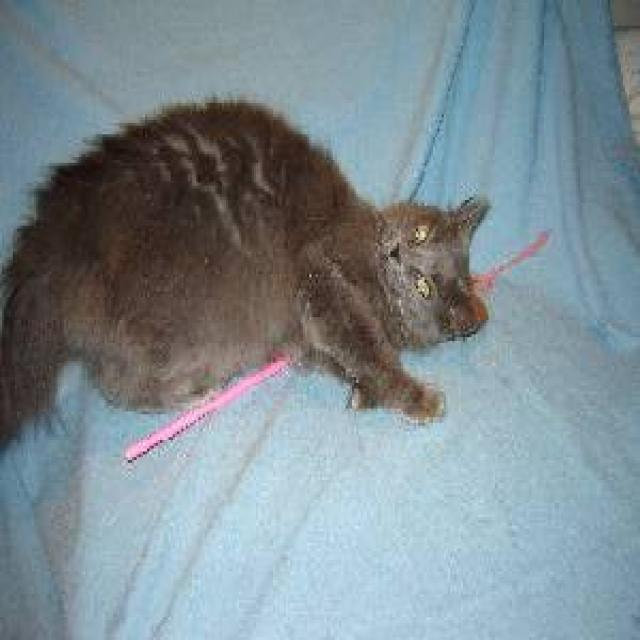cat: (0, 97, 491, 454)
